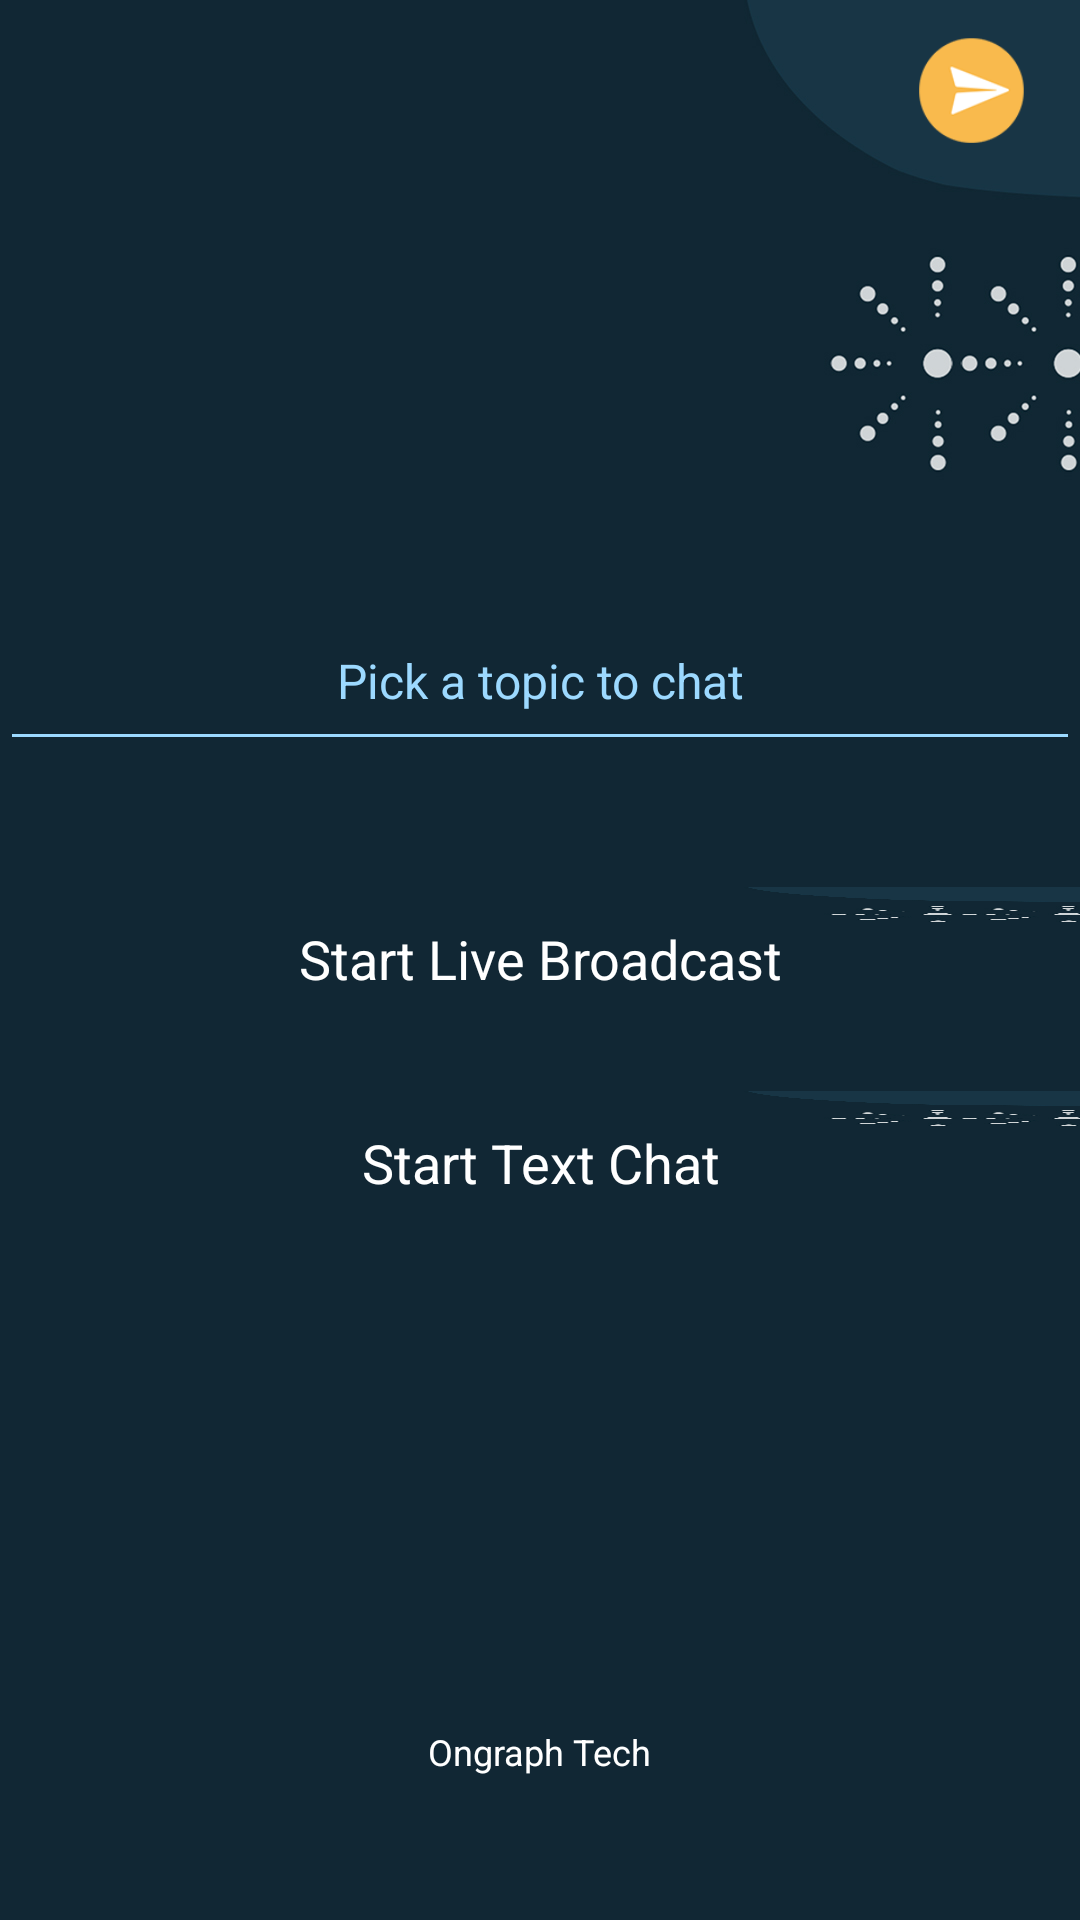

Screen size 1080px×1920px. Icon name, then its box in pixels as region(x1, y1, x2, y2):
send: region(919, 38, 1024, 143)
